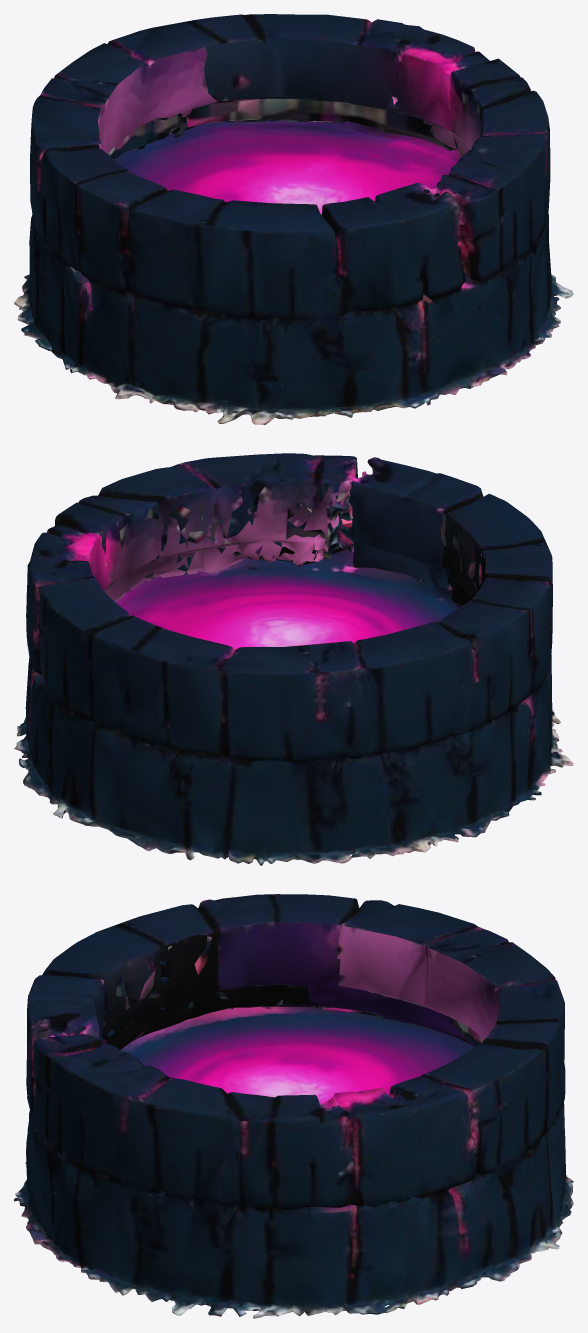
Rendered from well-of-mimir-pool-generated-2026-05-17T18-04-36-850Z.low.glb.
3 renders of one model, top to bottom at view 1: azimuth 30°, elevation 25°; view 2: azimuth 150°, elevation 25°; view 3: azimuth 270°, elevation 25°, orthographic. The views are drawn at different scales.
Parts seen in each view (by area): view 1: temp_mesh.ply; view 2: temp_mesh.ply; view 3: temp_mesh.ply.
Boxes of the visible parts, x1,y1,x2,y2 form: temp_mesh.ply: [14, 14, 573, 424]; temp_mesh.ply: [14, 453, 573, 865]; temp_mesh.ply: [14, 894, 573, 1318].
Bounding box in the file's own units: 1.97 × 0.7952 × 1.97.
Materials: 1 (1 with a texture image).
